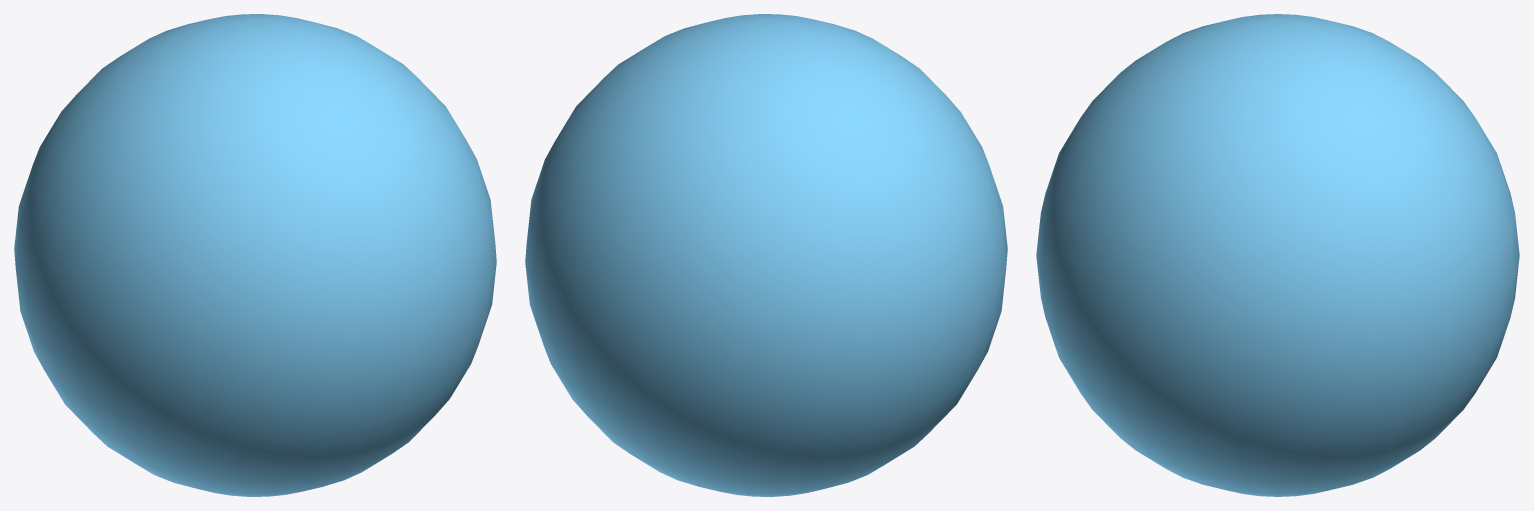
Rendered from Teeth.gltf.
3 renders of one model, left to right at view 1: azimuth 30°, elevation 25°; view 2: azimuth 150°, elevation 25°; view 3: azimuth 270°, elevation 25°, orthographic.
Visible parts, largest first — view 1: Sphere; view 2: Sphere; view 3: Sphere.
Boxes of the visible parts, bbox=[...] form: Sphere: bbox=[14, 14, 496, 496]; Sphere: bbox=[525, 14, 1007, 496]; Sphere: bbox=[1036, 14, 1519, 496].
Size of the model in its own units: 115 by 115 by 115.
